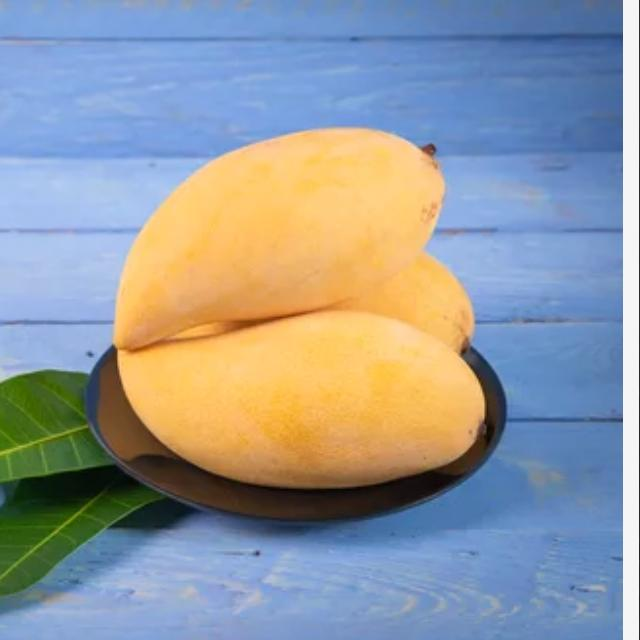mango: (114, 124, 445, 349), (104, 312, 485, 486)
